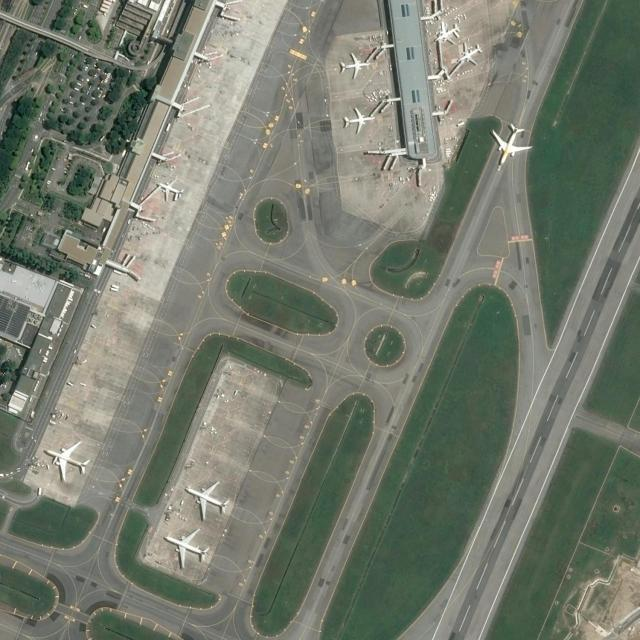Aircraft: (491, 121, 533, 169), (162, 528, 210, 568), (43, 440, 90, 480), (184, 480, 230, 519), (343, 106, 374, 133), (340, 52, 370, 76), (457, 43, 486, 66), (436, 20, 463, 44), (156, 178, 183, 200)
